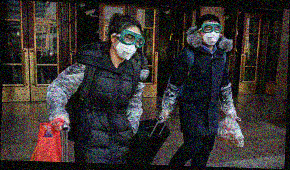with_mask: (115, 31, 144, 63), (201, 23, 222, 47)
